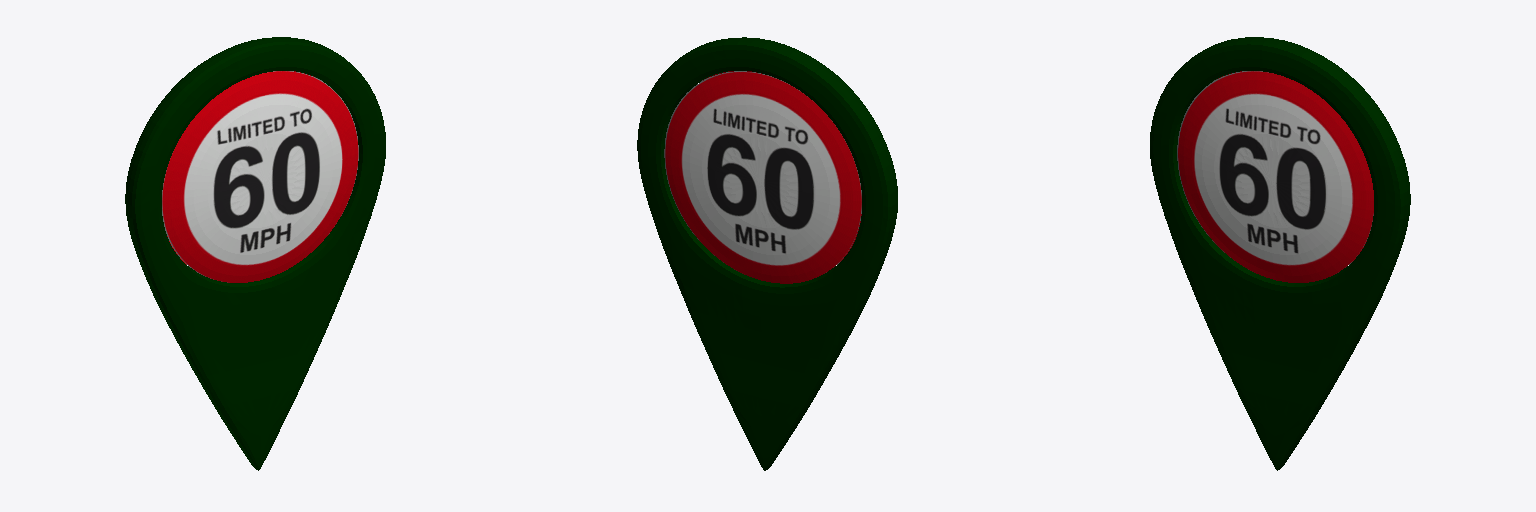
The picture shows the model from 3 angles: view 1: azimuth 30°, elevation 25°; view 2: azimuth 150°, elevation 25°; view 3: azimuth 330°, elevation 25°; orthographic projection.
Parts seen in each view (by area): view 1: Circle.028_Circle.012, Circle.024_Circle.041; view 2: Circle.028_Circle.012, Circle.024_Circle.041; view 3: Circle.028_Circle.012, Circle.024_Circle.041.
Boxes of the visible parts, <box> form: Circle.028_Circle.012: <box>125,37,385,470</box>; Circle.024_Circle.041: <box>162,71,358,282</box>; Circle.028_Circle.012: <box>637,37,897,470</box>; Circle.024_Circle.041: <box>664,71,861,283</box>; Circle.028_Circle.012: <box>1150,37,1410,470</box>; Circle.024_Circle.041: <box>1177,71,1373,282</box>.
Size of the model in its own units: 2.69 by 4.3 by 0.3594.
2 materials, 1 textured.